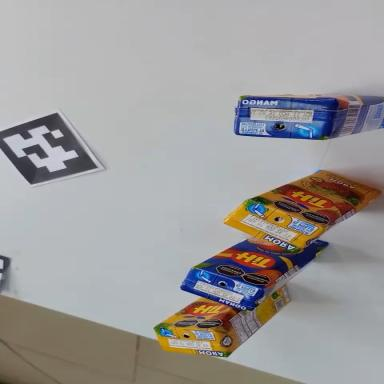HIT-MANGO: (173, 203, 337, 336), (233, 95, 383, 139)
HIT-MORA: (219, 150, 384, 274), (150, 285, 296, 366)
cara_F: (249, 150, 382, 243), (192, 234, 329, 292), (153, 295, 240, 331)
